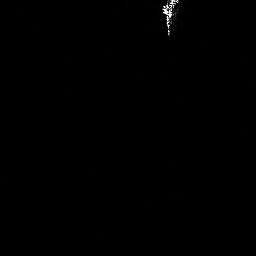ship: (161, 1, 178, 37)
